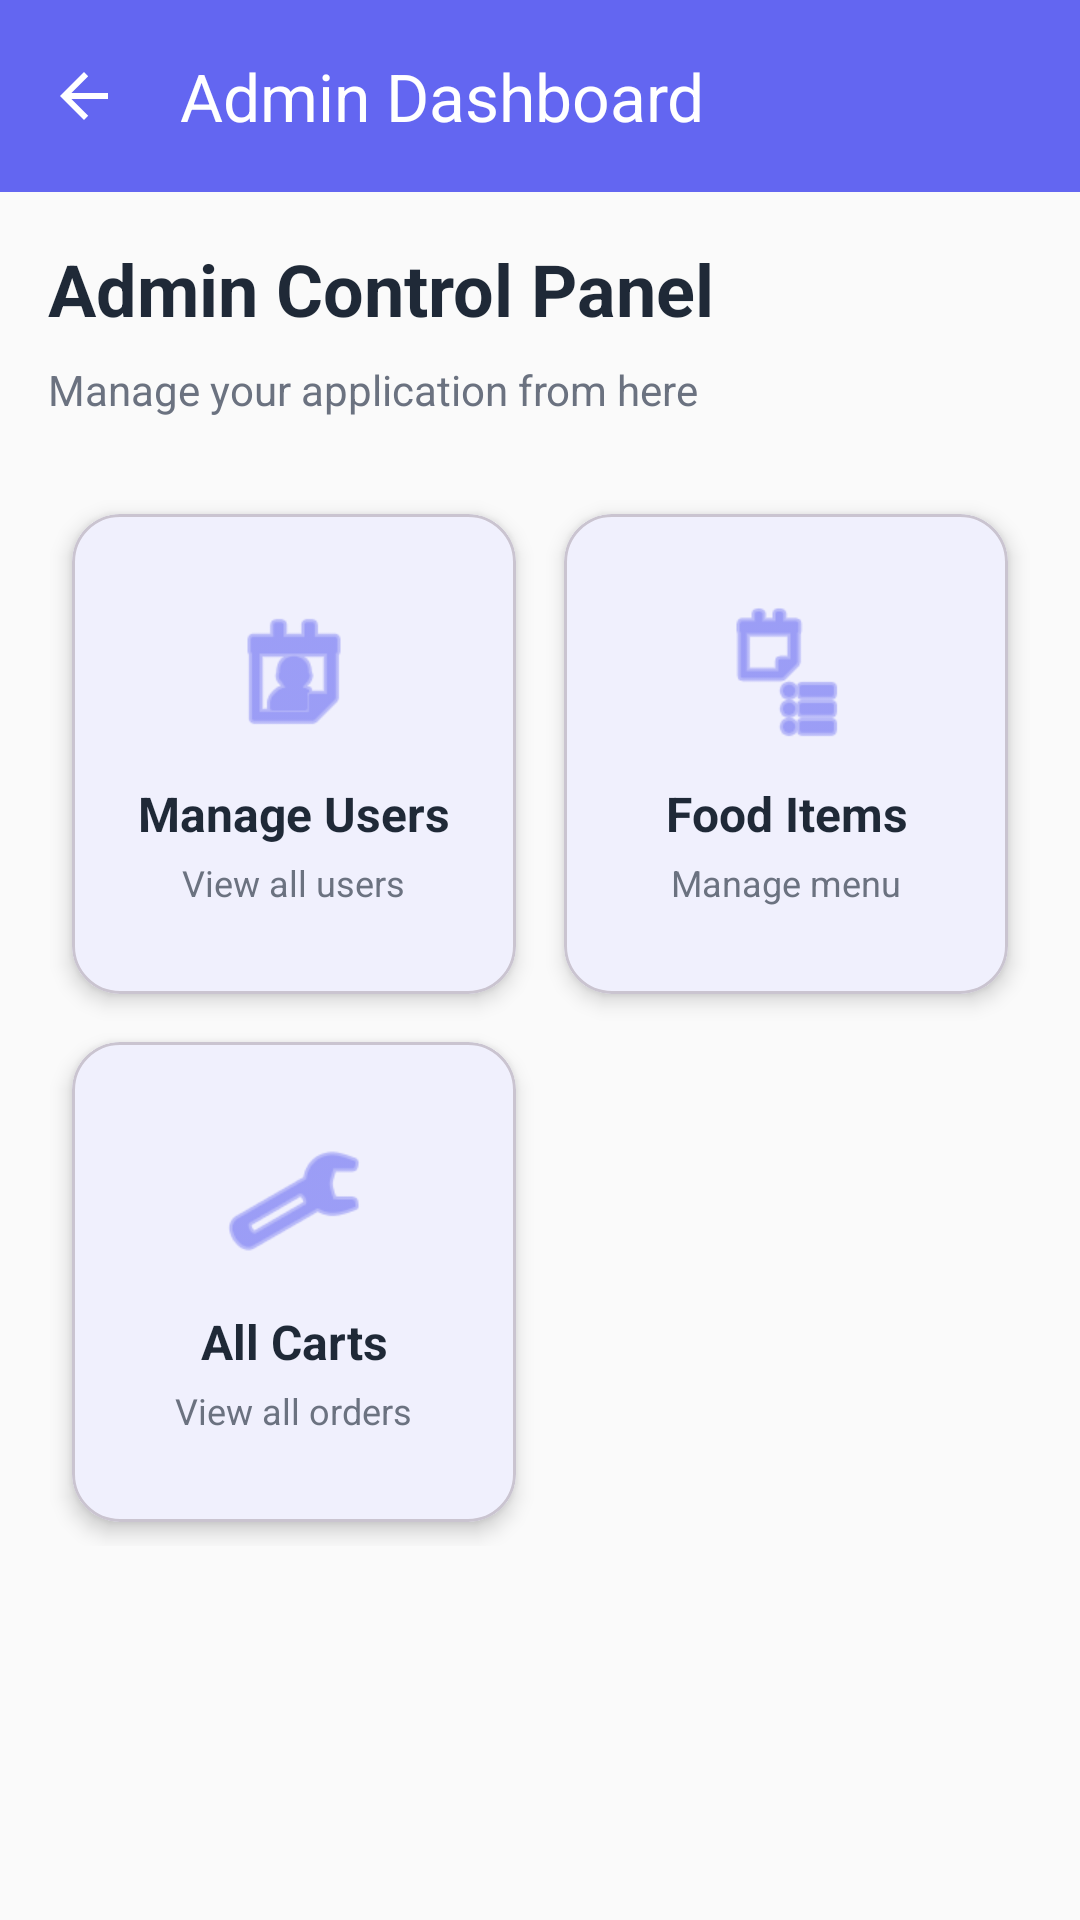

Where to tap for icons on this 1080w x 1920h app screen, as [x,y]:
agenda: [786,672]
calendar: [294,671]
manage: [294,1201]
